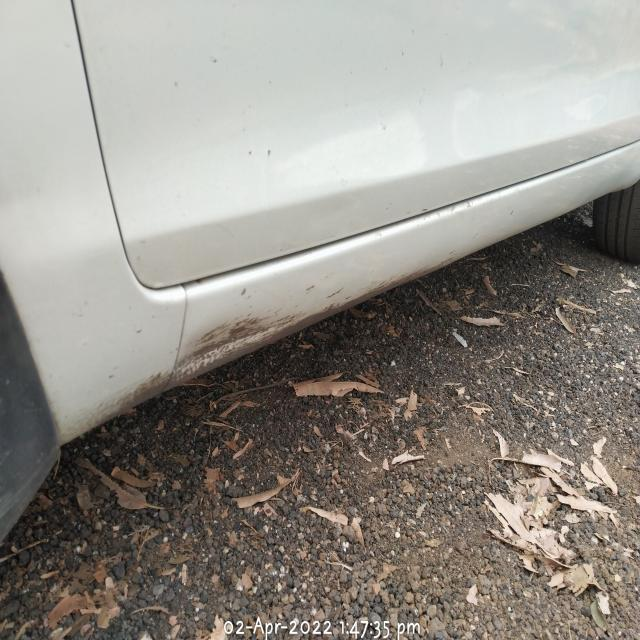damage: (105, 293, 322, 405)
